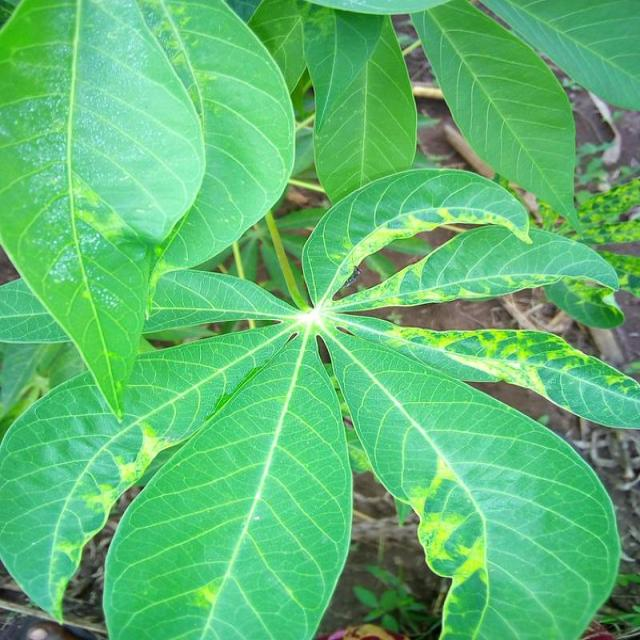cassava leaf: (0, 0, 638, 638), (331, 324, 622, 638), (0, 0, 206, 421), (100, 325, 354, 638), (409, 0, 583, 236)
